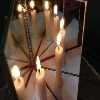fire: (36, 54, 42, 71)
